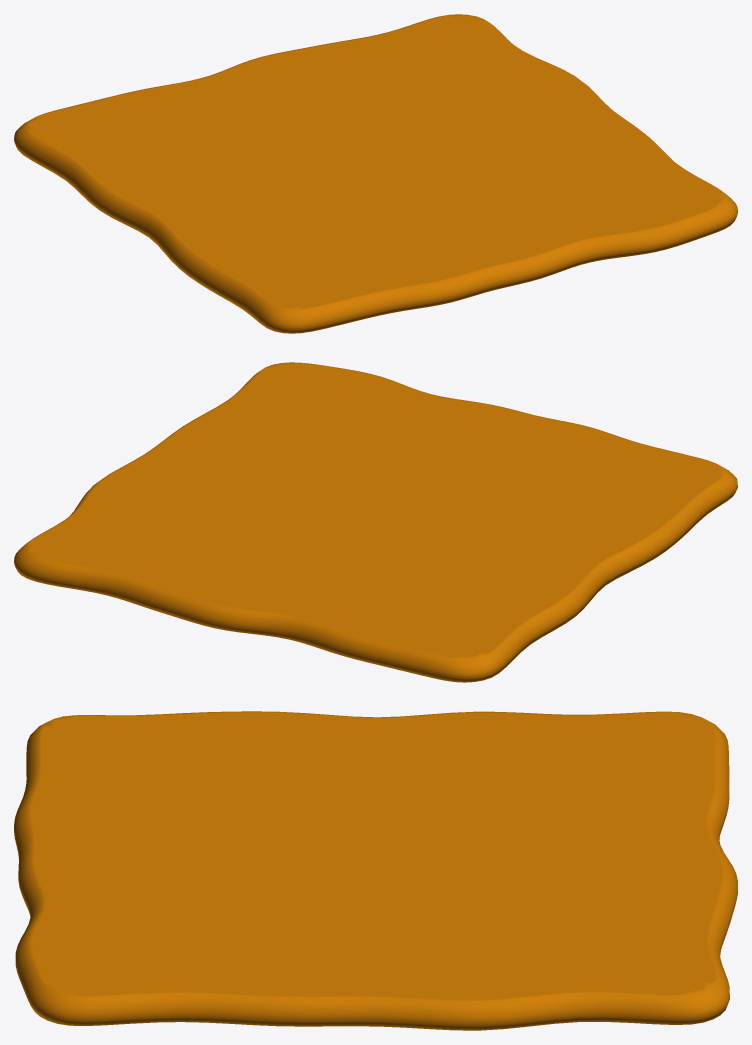
The model's file is testmodelsCube_101.fbx.
3 views of the same model, one above another, from view 1: azimuth 30°, elevation 25°; view 2: azimuth 150°, elevation 25°; view 3: azimuth 270°, elevation 25° (orthographic). The views are drawn at different scales.
Parts seen in each view (by area): view 1: Cube.101; view 2: Cube.101; view 3: Cube.101.
Boxes of the visible parts, x1,y1,x2,y2 form: Cube.101: (14,14,737,333); Cube.101: (14,362,737,682); Cube.101: (14,711,737,1030).
Size of the model in its own units: 718 by 27.73 by 731.
